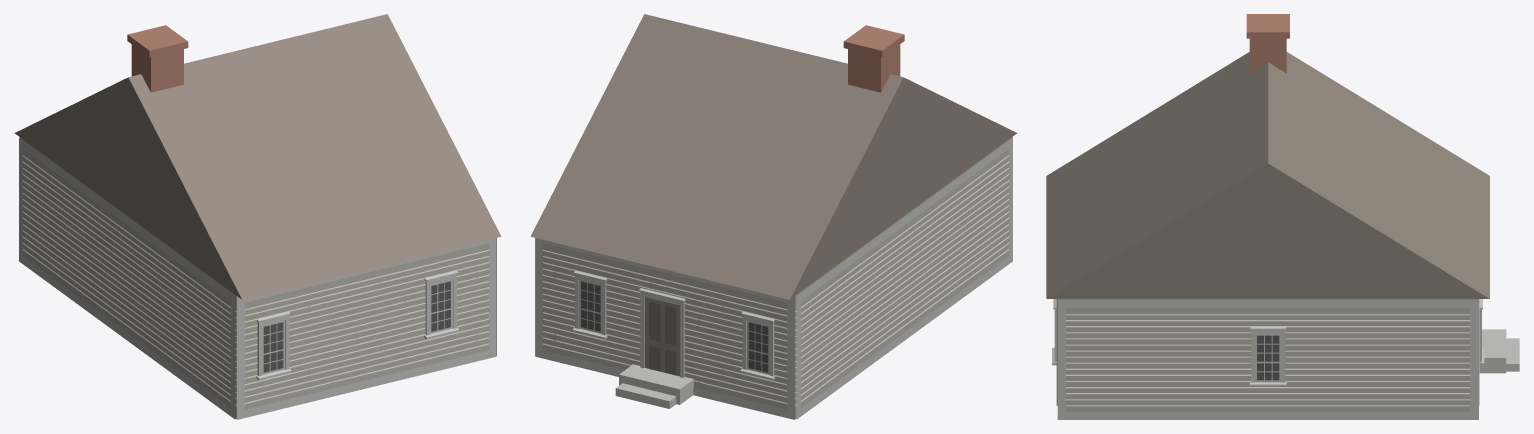
Rendered from recon_1835_blk_school_section_tier_81_d5_02__inferred_1835.glb.
The picture shows the model from 3 angles, left to right: view 1: azimuth 30°, elevation 25°; view 2: azimuth 150°, elevation 25°; view 3: azimuth 270°, elevation 25°; orthographic projection. The views are drawn at different scales.
Parts seen in each view (by area): view 1: recon_1835_blk_school_section_tier_81_d5_02__inferred_1835; view 2: recon_1835_blk_school_section_tier_81_d5_02__inferred_1835; view 3: recon_1835_blk_school_section_tier_81_d5_02__inferred_1835.
Boxes of the visible parts, left/top/right/bottom form: recon_1835_blk_school_section_tier_81_d5_02__inferred_1835: left=14, top=14, right=501, bottom=419; recon_1835_blk_school_section_tier_81_d5_02__inferred_1835: left=530, top=14, right=1017, bottom=419; recon_1835_blk_school_section_tier_81_d5_02__inferred_1835: left=1046, top=14, right=1519, bottom=419.
Size of the model in its own units: 6.75 by 7.17 by 10.71.
